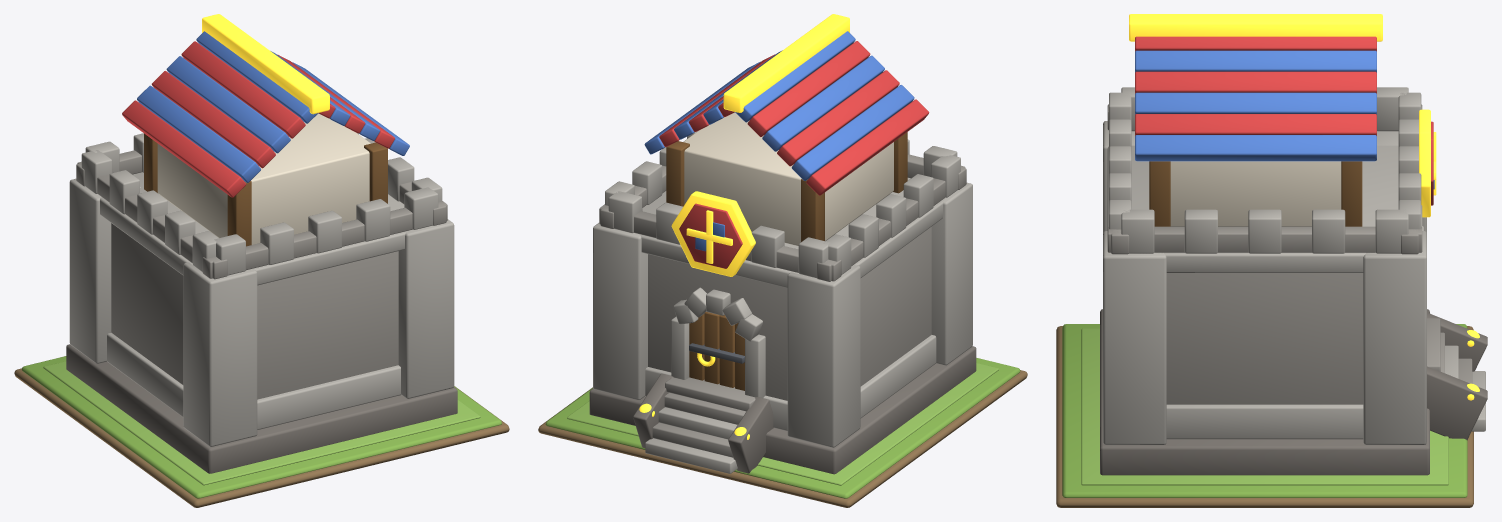
The model's file is clan_castle.glb.
3 views of the same model, side by side, from view 1: azimuth 30°, elevation 25°; view 2: azimuth 150°, elevation 25°; view 3: azimuth 270°, elevation 25° (orthographic). The views are drawn at different scales.
Visible parts, largest first — view 1: CC_KeepCore, CC_RoofHouseWalls, CC_CornerTower_-1_-1, CC_StonePlinth, CC_CornerTower_1_-1, Base_Grass, CC_LowerBand, CC_CornerTower_-1_1, Base_Inner, Base_Dirt, CC_KeepDeck, CC_RoofRidgeGold (+25 smaller); view 2: CC_KeepCore, CC_RoofHouseWalls, CC_CornerTower_-1_1, CC_CornerTower_1_1, CC_StonePlinth, CC_CornerTower_-1_-1, Base_Grass, Base_Dirt, Base_Inner, CC_KeepDeck, CC_RoofRidgeGold, CC_LowerBand (+38 smaller); view 3: CC_KeepCore, CC_CornerTower_1_1, CC_CornerTower_1_-1, CC_StonePlinth, CC_RoofHouseWalls, Base_Grass, CC_KeepDeck, Base_Inner, CC_LowerBand, CC_HeraldicRoof_1_5, CC_RoofRidgeGold, Base_Dirt (+29 smaller).
Part boxes in pixels (x1,y1,x2,y2): CC_KeepCore: (111, 223, 398, 399); CC_RoofHouseWalls: (157, 113, 370, 244); CC_CornerTower_-1_-1: (183, 262, 257, 446); CC_StonePlinth: (66, 344, 457, 473); CC_CornerTower_1_-1: (398, 219, 454, 398); Base_Grass: (22, 356, 501, 498); CC_LowerBand: (107, 332, 401, 429); CC_CornerTower_-1_1: (69, 178, 140, 363); Base_Inner: (43, 361, 480, 485); Base_Dirt: (14, 368, 509, 507); CC_KeepDeck: (100, 172, 405, 285); CC_RoofRidgeGold: (202, 14, 329, 114); CC_KeepCore: (648, 227, 931, 400); CC_RoofHouseWalls: (683, 112, 893, 245); CC_CornerTower_-1_1: (787, 265, 860, 447); CC_CornerTower_1_1: (593, 223, 647, 399); CC_StonePlinth: (589, 346, 976, 474); CC_CornerTower_-1_-1: (931, 182, 972, 365); Base_Grass: (545, 358, 1020, 498); Base_Dirt: (538, 370, 1027, 507); Base_Inner: (567, 363, 998, 485); CC_KeepDeck: (623, 178, 947, 287); CC_RoofRidgeGold: (723, 14, 849, 112); CC_LowerBand: (645, 335, 936, 430); CC_KeepCore: (1166, 273, 1363, 404); CC_CornerTower_1_1: (1363, 231, 1426, 444); CC_CornerTower_1_-1: (1103, 231, 1166, 444); CC_StonePlinth: (1100, 309, 1429, 475); CC_RoofHouseWalls: (1170, 161, 1341, 226); Base_Grass: (1062, 324, 1467, 497); CC_KeepDeck: (1107, 131, 1422, 272); Base_Inner: (1081, 328, 1448, 485); CC_LowerBand: (1166, 404, 1363, 439); CC_HeraldicRoof_1_5: (1135, 135, 1376, 161); CC_RoofRidgeGold: (1129, 14, 1382, 41); Base_Dirt: (1056, 326, 1473, 507).
Size of the model in its own units: 2.76 by 2.94 by 2.85.
